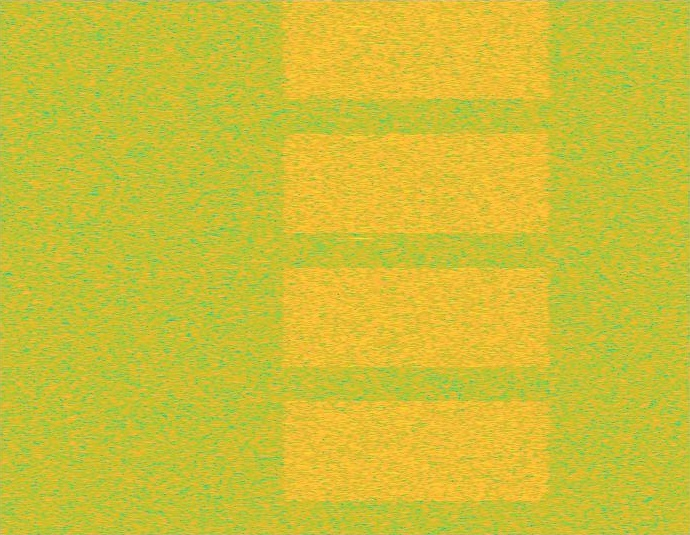5G: (278, 0, 554, 534)
Radar: (354, 0, 368, 534)
